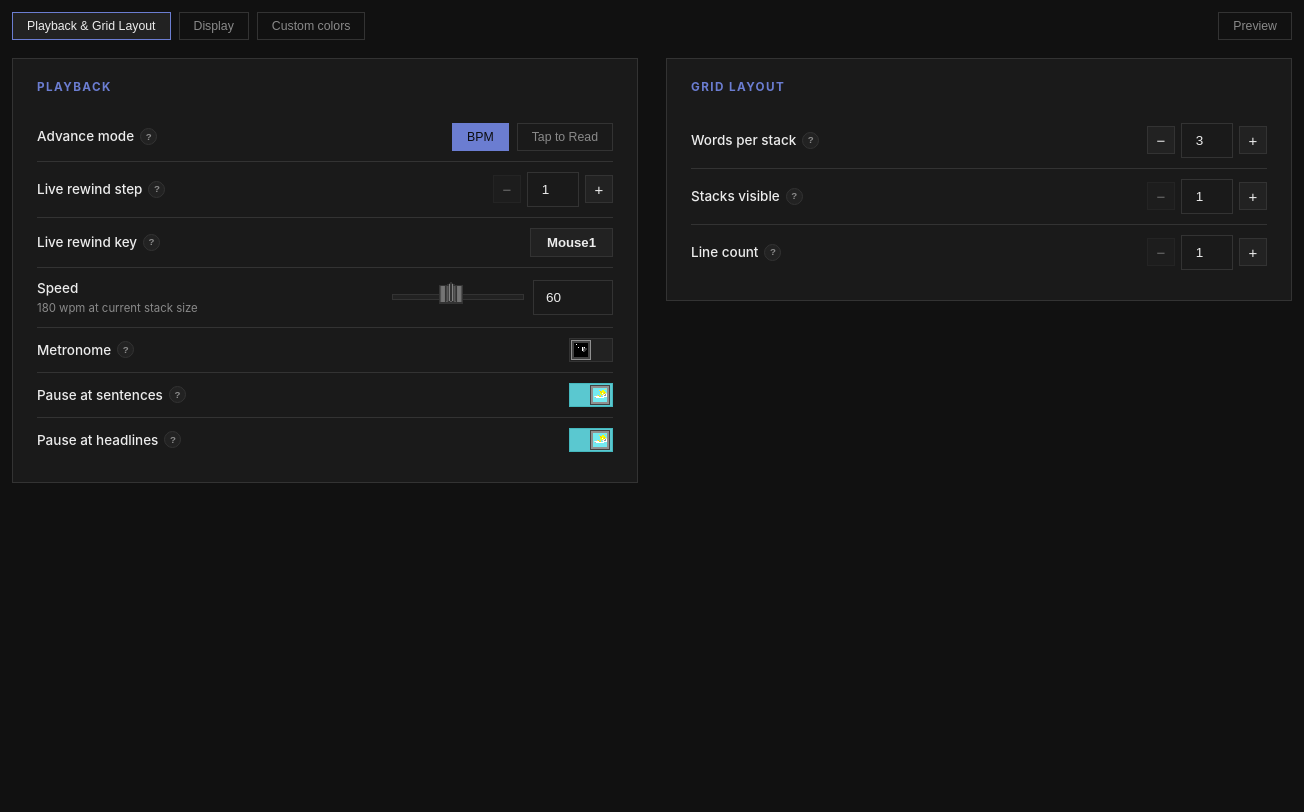
Test: ReaderSettingsEditor — Settings host › shows all Display sections and keeps Colors palette-first with custom colors opening a tab
Click the tab "Display" at x=214, y=26, box [178, 12, 249, 40]
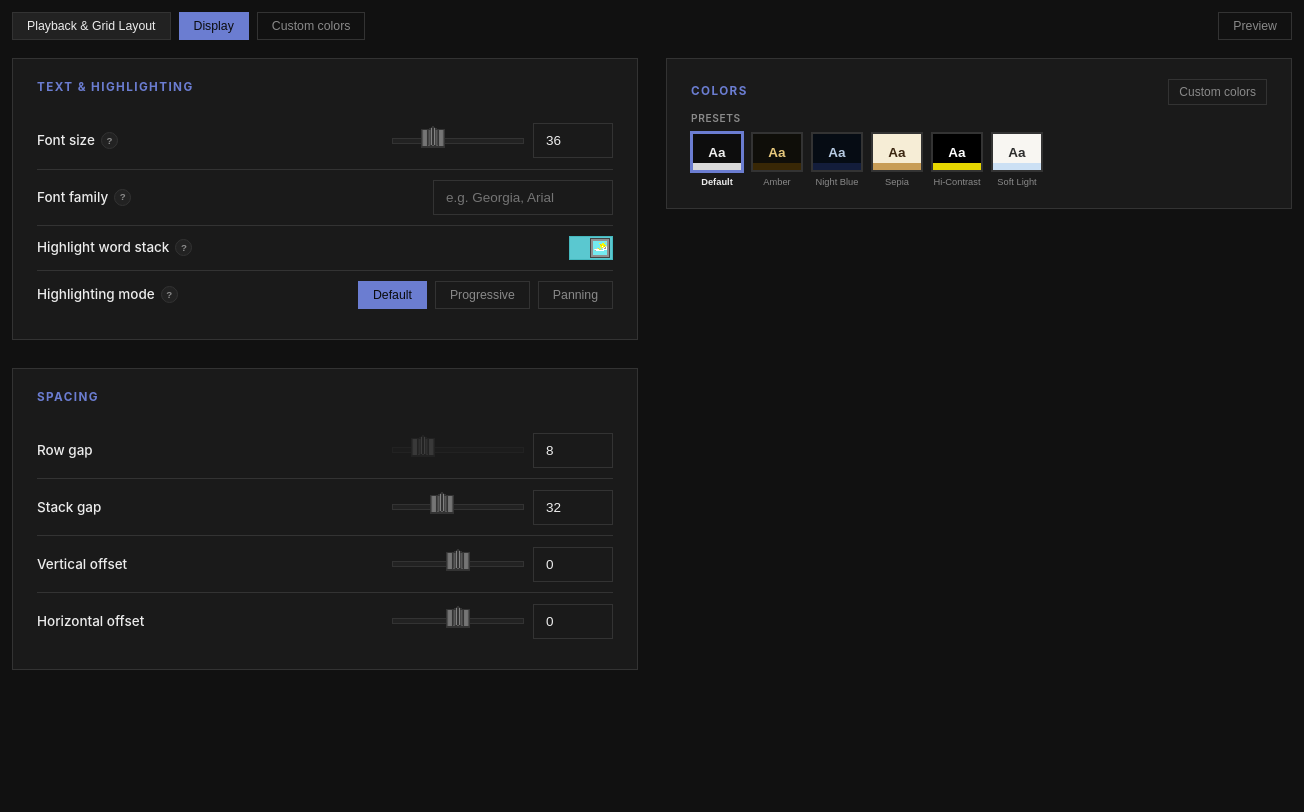
Result: the heading "Text & Highlighting" is shown at [37, 80, 194, 94]
Result: the heading "Colors" is shown at [691, 83, 748, 101]
Result: the heading "Spacing" is shown at [37, 390, 99, 404]
Click the button "Custom colors" at x=1218, y=92, box [1168, 79, 1267, 105]
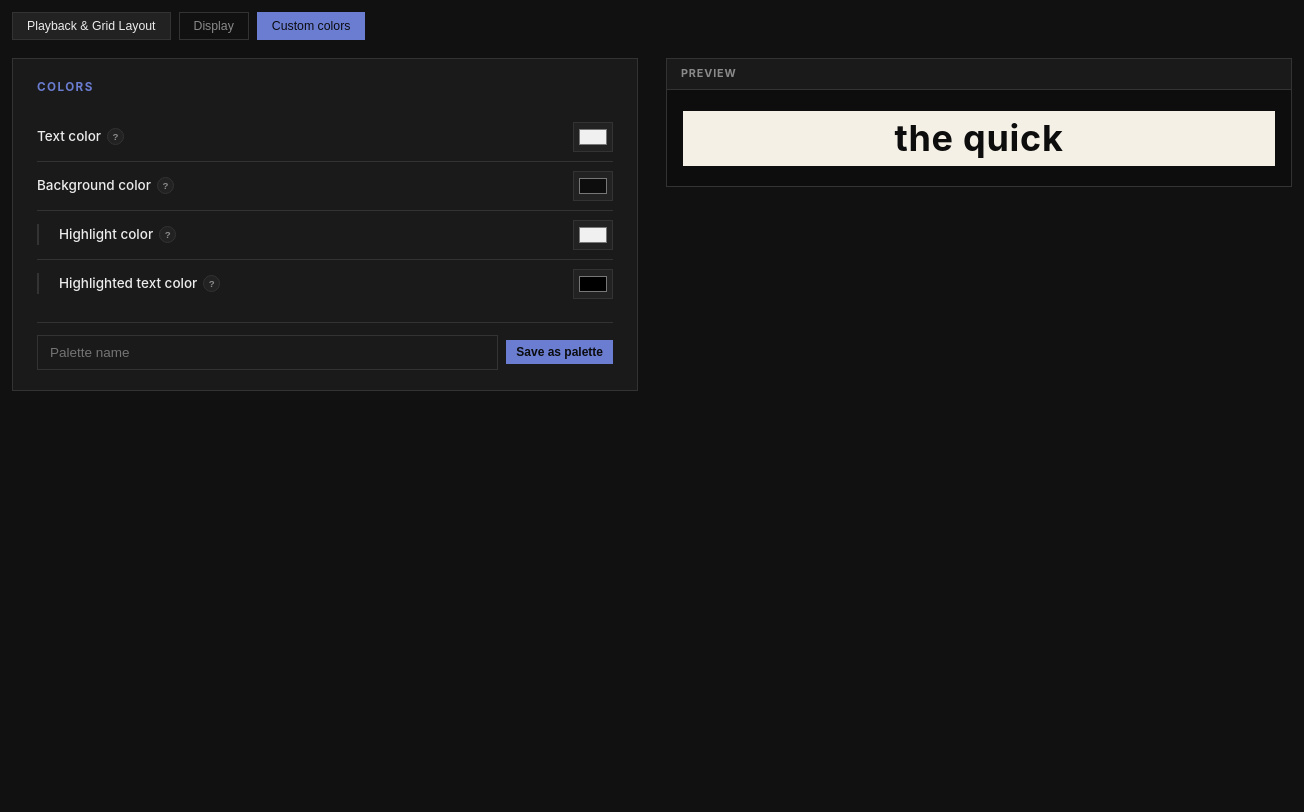
Result: the text "Text color" is shown at [37, 126, 101, 147]
Result: the text "Background color" is shown at [37, 175, 151, 196]
Result: the text "Highlight color" is shown at [59, 224, 153, 245]
